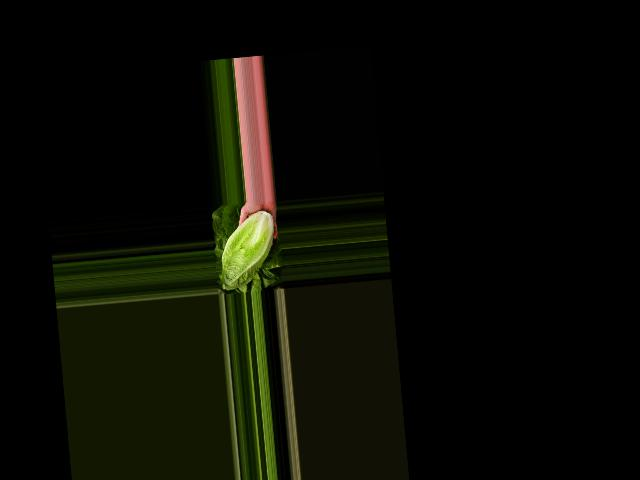lettuce: (215, 208, 281, 291)
